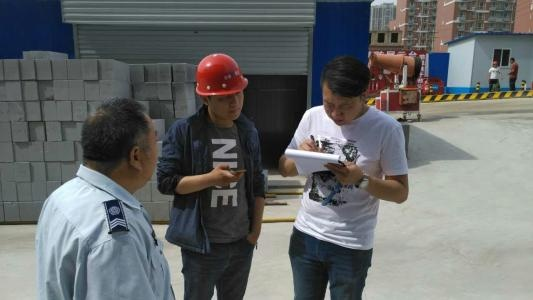none: (71, 92, 160, 197), (317, 54, 372, 129)
red: (191, 52, 249, 129)
